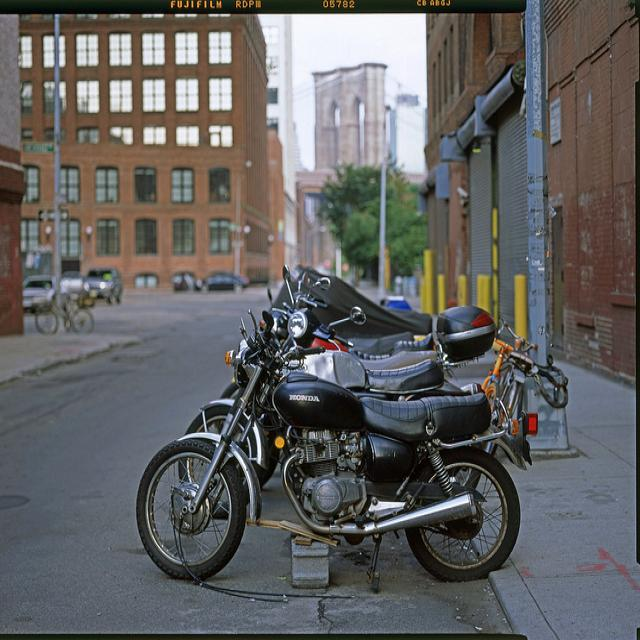motor: (131, 317, 522, 594), (190, 304, 492, 488), (272, 261, 439, 367), (359, 333, 433, 359)
